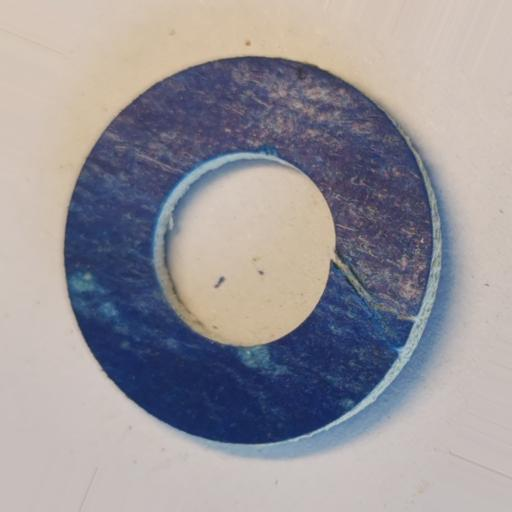defect: (332, 253, 408, 358)
